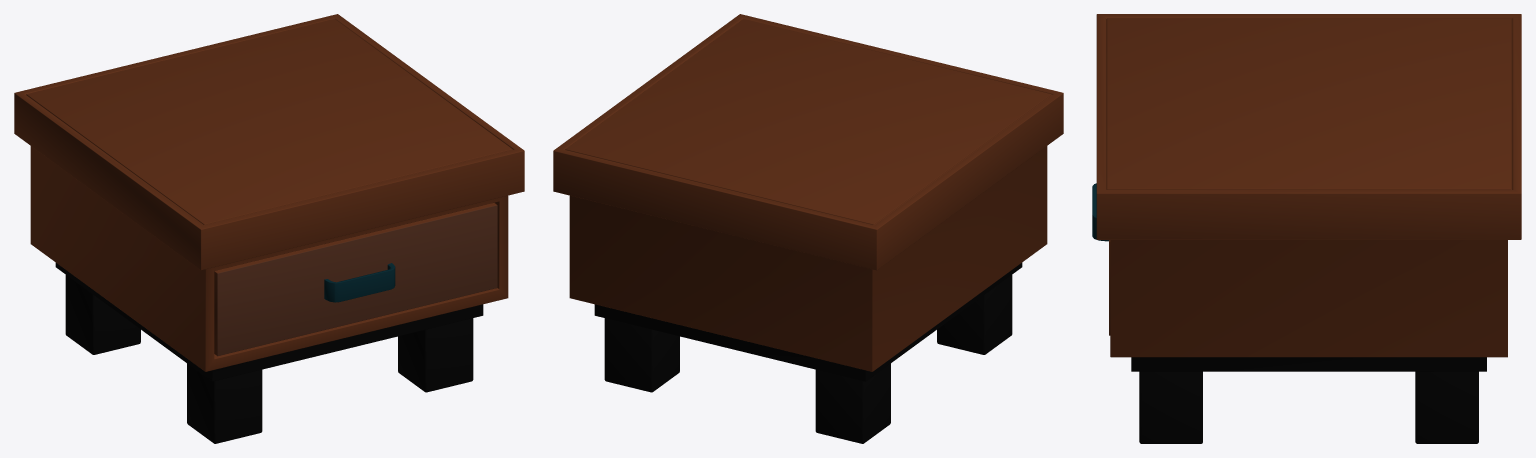
The model's file is table.fbx.
3 views of the same model, side by side, from view 1: azimuth 30°, elevation 25°; view 2: azimuth 150°, elevation 25°; view 3: azimuth 270°, elevation 25° (orthographic). The views are drawn at different scales.
Parts seen in each view (by area): view 1: meja, meja_kaki; view 2: meja, meja_kaki; view 3: meja, meja_kaki.
Part boxes in pixels (x1=…): meja: x1=14, y1=14, x2=524, y2=381; meja_kaki: x1=65, y1=275, x2=473, y2=443; meja: x1=553, y1=14, x2=1063, y2=381; meja_kaki: x1=604, y1=275, x2=1012, y2=443; meja: x1=1092, y1=14, x2=1521, y2=371; meja_kaki: x1=1139, y1=371, x2=1478, y2=443.
Bounding box in the file's own units: 100 × 69.92 × 101.
